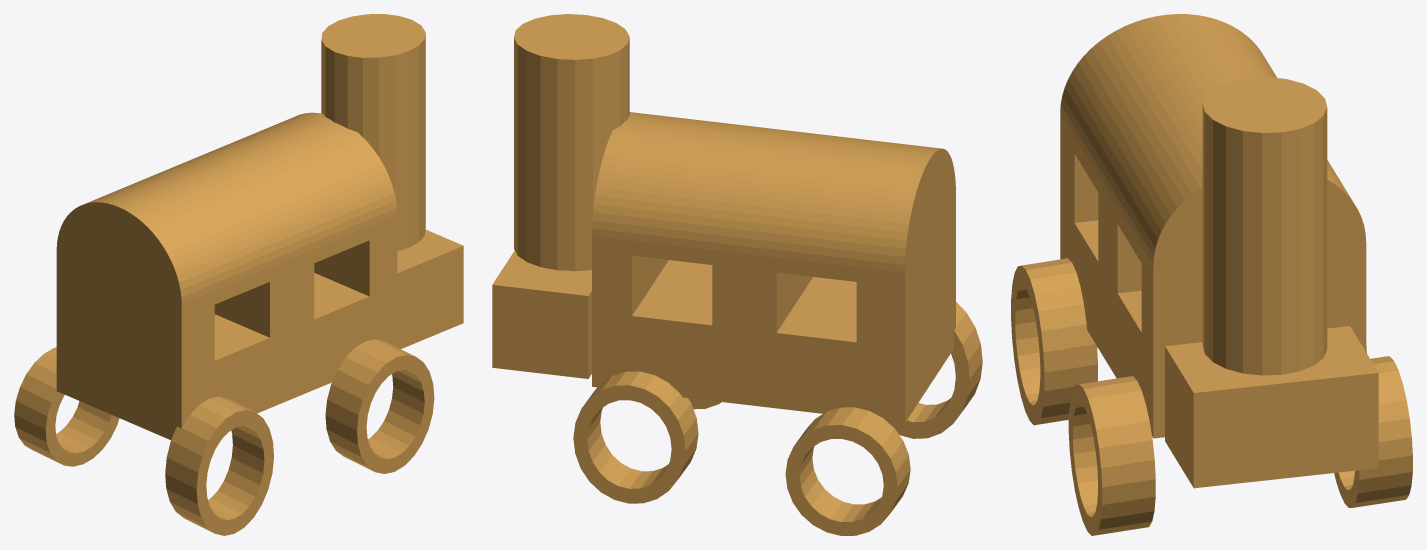
The model's file is proyectoC150.glb.
The picture shows the model from 3 angles, left to right: view 1: azimuth 30°, elevation 25°; view 2: azimuth 150°, elevation 25°; view 3: azimuth 270°, elevation 25°; orthographic projection. The views are drawn at different scales.
Parts seen in each view (by area): view 1: Mesh_Mesh_head_geo.001_lambert2SG.001; view 2: Mesh_Mesh_head_geo.001_lambert2SG.001; view 3: Mesh_Mesh_head_geo.001_lambert2SG.001.
Part boxes in pixels (box(x1,y1,x2,y2)): Mesh_Mesh_head_geo.001_lambert2SG.001: box(14, 14, 463, 535); Mesh_Mesh_head_geo.001_lambert2SG.001: box(492, 14, 982, 535); Mesh_Mesh_head_geo.001_lambert2SG.001: box(1011, 14, 1412, 535).
Size of the model in its own units: 58.52 by 52.77 by 42.07.
